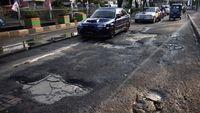Pothole: (14, 65, 96, 105), (127, 85, 183, 113), (101, 38, 141, 58), (165, 33, 192, 61), (131, 26, 158, 49)
